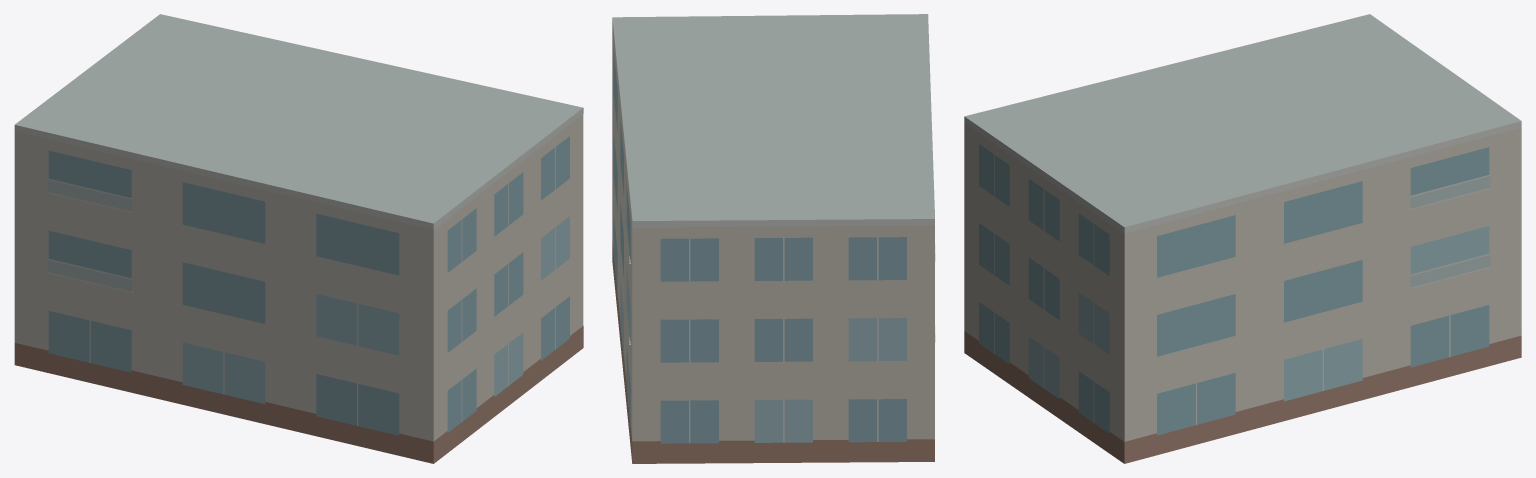
The model's file is survey-upis-32592432.glb.
The picture shows the model from 3 angles, left to right: view 1: azimuth 30°, elevation 25°; view 2: azimuth 150°, elevation 25°; view 3: azimuth 270°, elevation 25°; orthographic projection. The views are drawn at different scales.
Visible parts, largest first — view 1: survey-upis-32592432.tmp; view 2: survey-upis-32592432.tmp; view 3: survey-upis-32592432.tmp.
Boxes of the visible parts, box(x1,y1,x2,y2) form: survey-upis-32592432.tmp: box(14, 14, 583, 463); survey-upis-32592432.tmp: box(612, 14, 935, 463); survey-upis-32592432.tmp: box(964, 14, 1521, 463).
Size of the model in its own units: 17.71 by 9.15 by 19.55.
